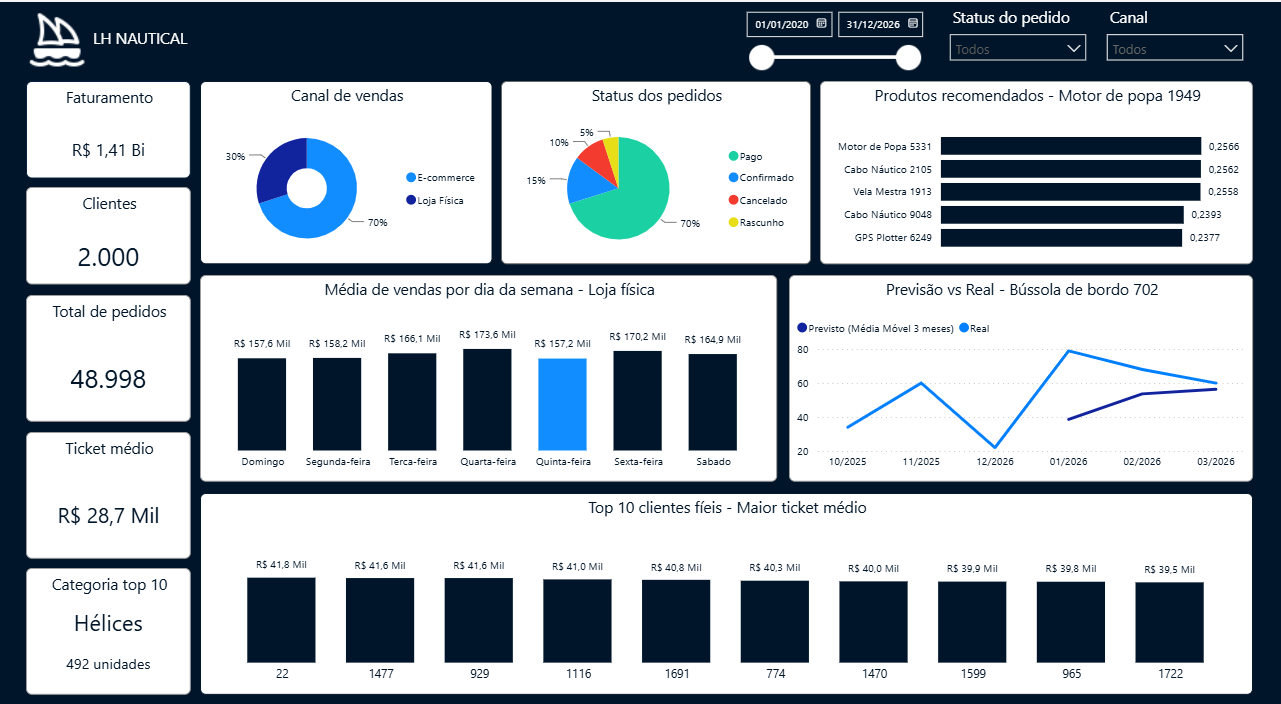

What the dashboard file says about the page in this screenshot:
{"tool":"powerbi","page":{"name":"Página 1","canvas":[1280,720],"ordinal":0},"visuals":[{"type":"cardVisual","title":"Clientes","fields":{"Data":["maditas.Total_Clientes"]},"box":[9.9,190.2,169.3,100.1],"z":0},{"type":"cardVisual","title":"Faturamento","fields":{"Data":["maditas.Faturamento_Total"]},"box":[9.9,81.4,169.3,100],"z":1000},{"type":"cardVisual","title":"Ticket médio","fields":{"Data":["maditas.Ticket_Medio"]},"box":[9.9,441,169.3,129.8],"z":2000},{"type":"donutChart","title":"Status dos pedidos","fields":{"Category":["public orders.Status_ PT"],"Y":["CountNonNull(public orders.id)"]},"box":[497,81.4,317.8,188],"z":3000},{"type":"pieChart","title":"Canal de vendas","fields":{"Category":["public orders.Canal_PT"],"Y":["CountNonNull(public orders.id)"]},"box":[189.1,81.4,300,188],"z":4000},{"type":"clusteredColumnChart","title":"Top 10 clientes fíeis - Maior ticket médio ","fields":{"Category":["Top10_Clientes_Fieis.id"],"Y":["Sum(Top10_Clientes_Fieis.TicketMedio)"]},"box":[189.1,503.6,1079.9,207],"z":5000},{"type":"cardVisual","title":"Categoria top 10","fields":{"Data":["Top10_Clientes_Fieis.Categoria_Top10"]},"box":[9.9,580.6,169.3,129.8],"z":6000},{"type":"lineClusteredColumnComboChart","title":"Média de vendas por dia  da semana - Loja física","fields":{"Category":["Calendario.ColunDiaSemana"],"Y":["maditas.Media_Vendas_Dia"]},"box":[189.1,280.4,591.6,212],"z":7000},{"type":"lineChart","title":"Previsão vs Real - Bússola de bordo 702","fields":{"Category":["previsao_demanda.mes"],"Y":["Sum(previsao_demanda.previsto)","Sum(previsao_demanda.real)"]},"box":[792.9,280.4,476.2,212.2],"z":8000},{"type":"clusteredBarChart","title":"Produtos recomendados - Motor de popa 1949","fields":{"Category":["produtos_similares.produto"],"Y":["Sum(produtos_similares.similaridade)"]},"box":[824.7,81.4,444.3,188],"z":9000},{"type":"textbox","box":[73.7,22,115.5,31.9],"z":10000},{"type":"image","box":[9.9,5.5,63.8,66],"z":11000},{"type":"cardVisual","title":"Total de pedidos","fields":{"Data":["maditas.Total_Pedidos"]},"box":[9.9,300.2,169.3,129.8],"z":12000},{"type":"slicer","fields":{"Values":["Calendario.Date"]},"box":[736.8,0,200,77],"z":13000},{"type":"slicer","fields":{"Values":["public orders.Status_ PT"]},"box":[947.9,0,160,77],"z":14000},{"type":"slicer","fields":{"Values":["public orders.Canal_PT"]},"box":[1108.5,0,160,77],"z":15000}]}

Visuals, with their boxes in screenshot pixels (x1, y1, x2, y2), scaled from the page's 1280x720 canvas onto the 1281x704 screenshot:
"Clientes" cardVisual: x1=10, y1=186, x2=179, y2=284
"Faturamento" cardVisual: x1=10, y1=80, x2=179, y2=177
"Ticket médio" cardVisual: x1=10, y1=431, x2=179, y2=558
"Status dos pedidos" donutChart: x1=497, y1=80, x2=815, y2=263
"Canal de vendas" pieChart: x1=189, y1=80, x2=489, y2=263
"Top 10 clientes fíeis - Maior ticket médio " clusteredColumnChart: x1=189, y1=492, x2=1270, y2=695
"Categoria top 10" cardVisual: x1=10, y1=568, x2=179, y2=695
"Média de vendas por dia  da semana - Loja física" lineClusteredColumnComboChart: x1=189, y1=274, x2=781, y2=481
"Previsão vs Real - Bússola de bordo 702" lineChart: x1=794, y1=274, x2=1270, y2=482
"Produtos recomendados - Motor de popa 1949" clusteredBarChart: x1=825, y1=80, x2=1270, y2=263
textbox: x1=74, y1=22, x2=189, y2=53
image: x1=10, y1=5, x2=74, y2=70
"Total de pedidos" cardVisual: x1=10, y1=294, x2=179, y2=420
slicer - Calendario.Date: x1=737, y1=0, x2=938, y2=75
slicer - public orders.Status_ PT: x1=949, y1=0, x2=1109, y2=75
slicer - public orders.Canal_PT: x1=1109, y1=0, x2=1269, y2=75
